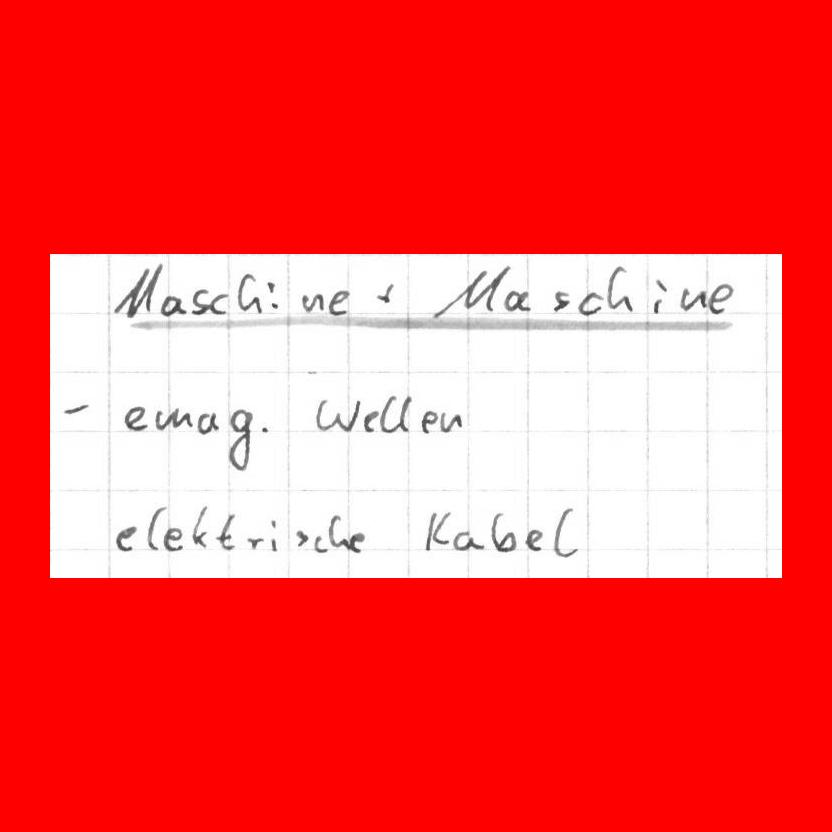Char: (118, 310, 734, 337), (434, 265, 502, 318), (110, 264, 161, 317), (312, 395, 361, 434), (225, 409, 254, 471), (552, 503, 580, 560), (607, 265, 635, 315), (144, 503, 168, 552), (489, 510, 516, 553), (423, 511, 450, 553), (236, 274, 262, 316), (707, 281, 735, 316), (154, 405, 190, 432), (190, 504, 210, 548), (328, 514, 351, 552), (377, 391, 397, 434), (122, 402, 147, 434), (216, 515, 238, 551), (680, 287, 707, 313), (114, 522, 138, 551), (299, 290, 327, 314), (328, 287, 351, 316), (651, 277, 670, 312), (195, 409, 220, 435), (503, 289, 531, 312), (451, 531, 483, 551), (191, 286, 213, 315), (578, 291, 601, 318), (398, 394, 413, 434), (158, 294, 185, 316), (62, 396, 90, 417), (163, 526, 185, 552), (524, 525, 545, 552), (209, 291, 231, 316), (374, 281, 397, 304), (550, 289, 571, 312), (265, 279, 280, 311), (440, 410, 461, 432), (421, 409, 439, 433), (267, 518, 280, 551), (347, 531, 366, 553), (362, 409, 379, 432), (244, 532, 264, 551), (293, 530, 310, 550), (312, 533, 328, 554), (256, 420, 271, 437)
